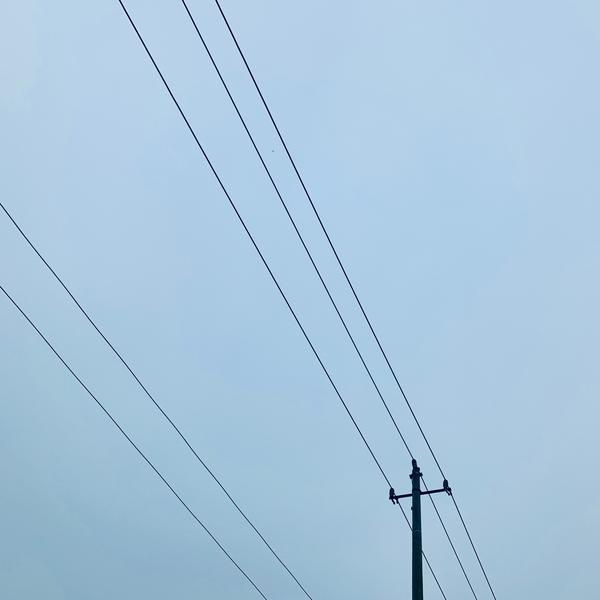utility_pole: (383, 448, 455, 557)
